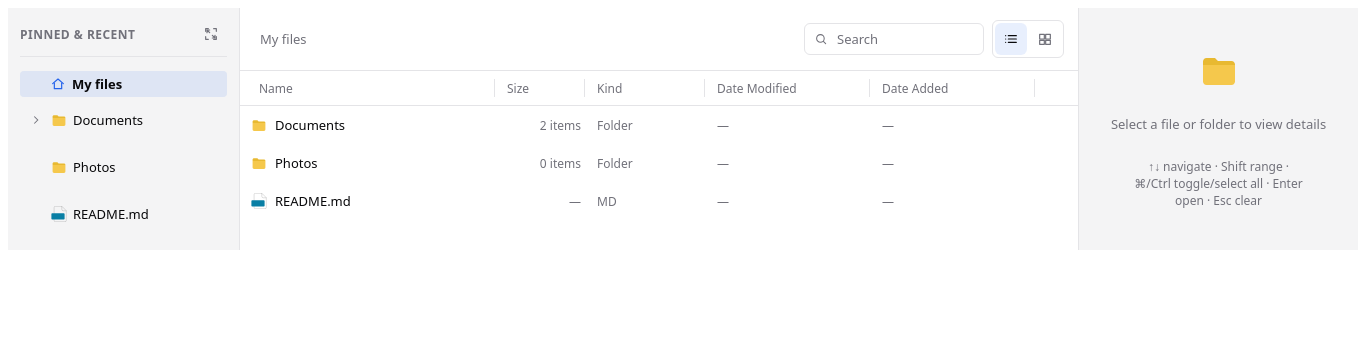
Test: FileManager characterization › shows files in the sidebar tree when a folder is expanded
Click the button named "Expand folder" at (36, 120), box [27,111,45,129]
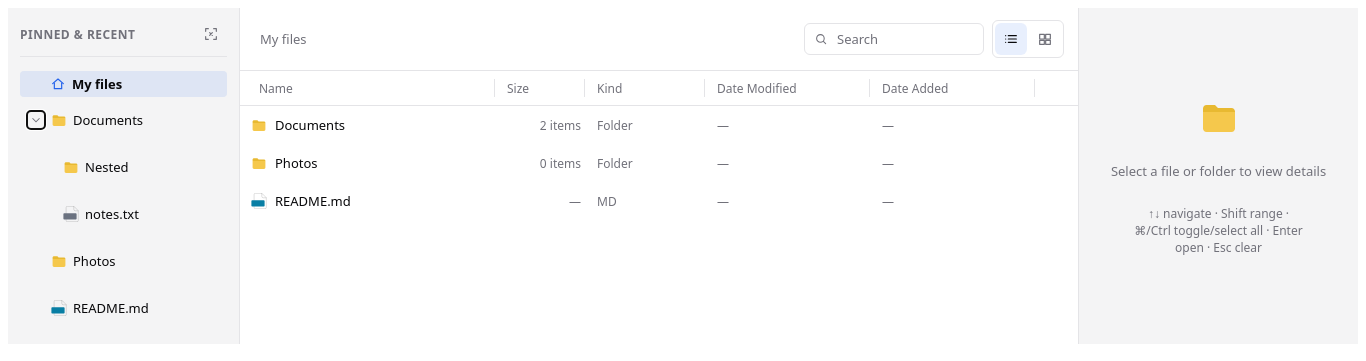
Result: the list item "notes.txt" is shown at [63,205,139,223]
Result: the list item "Nested" is shown at [63,158,128,176]
